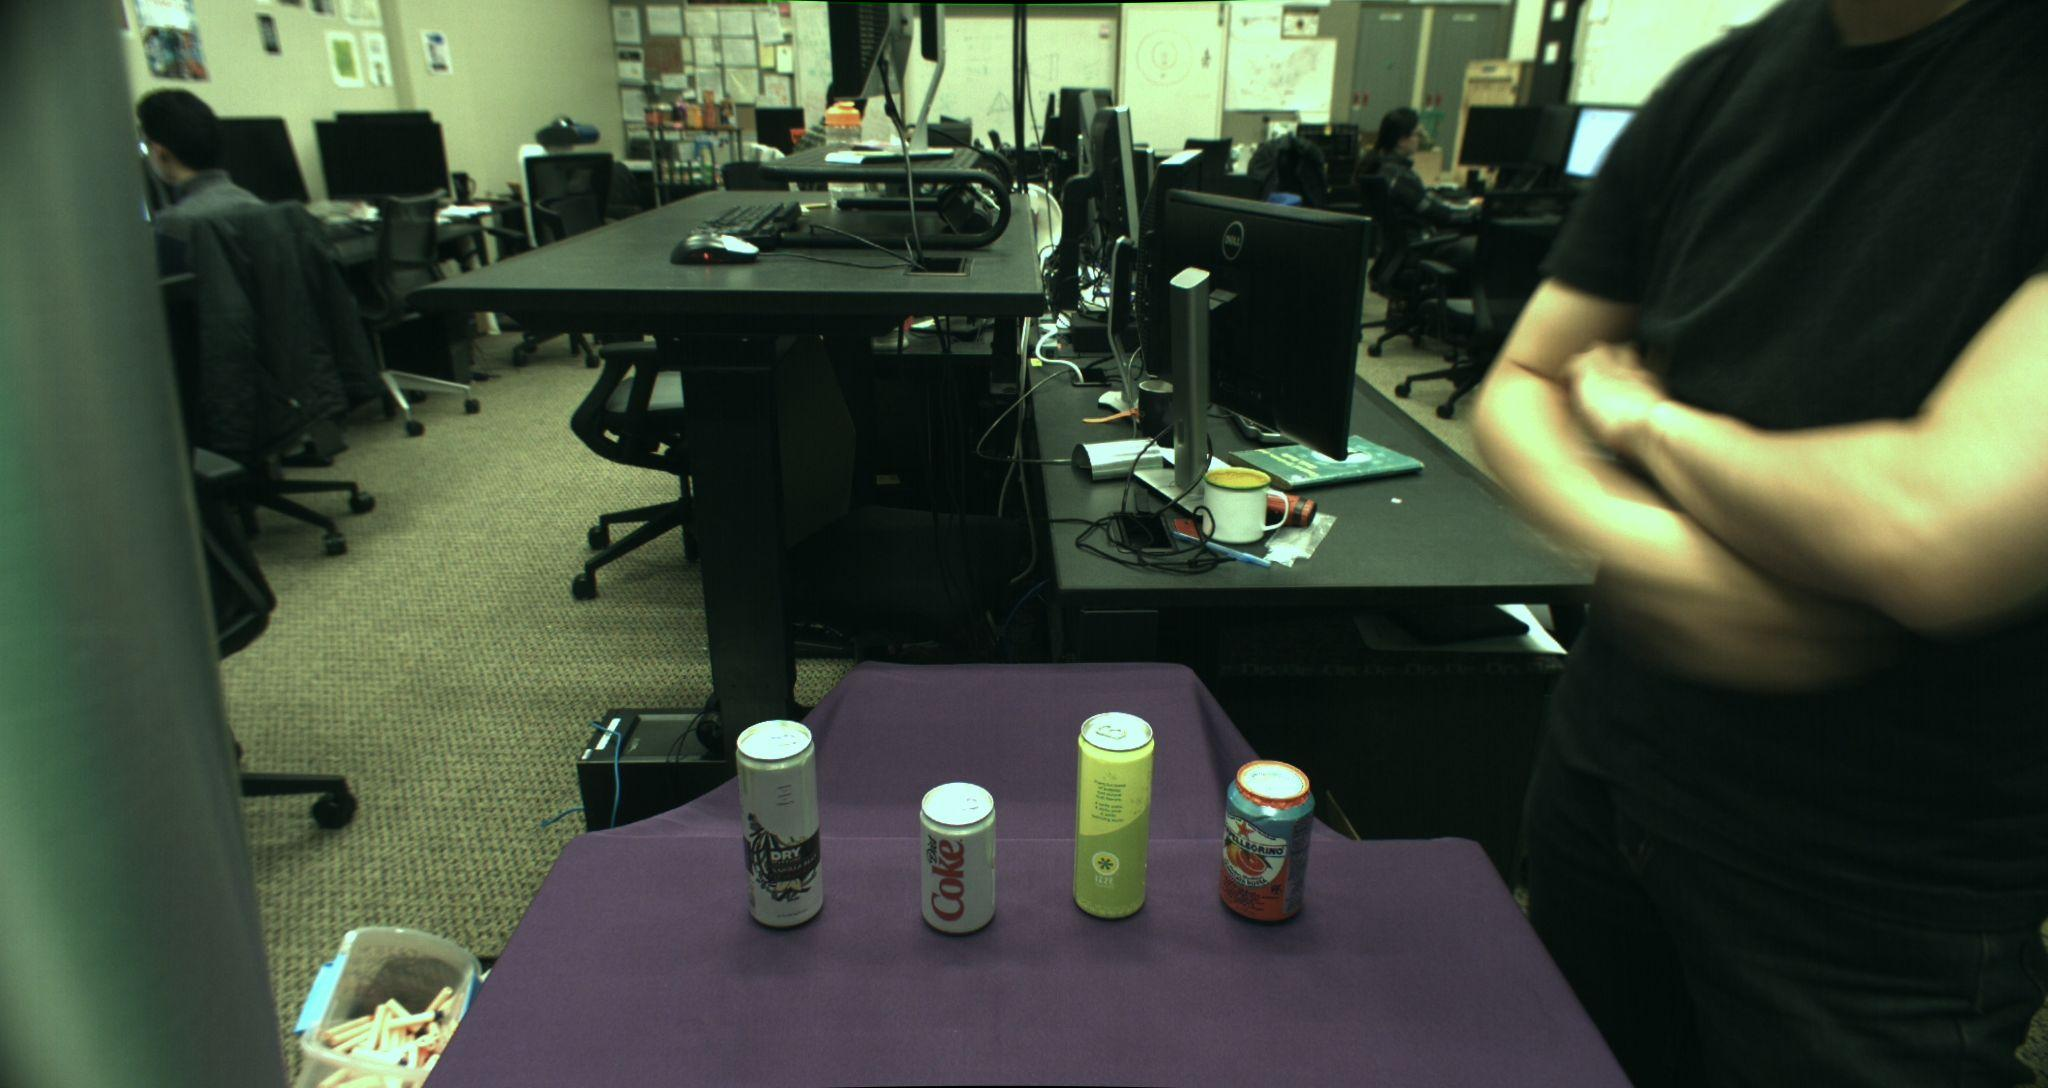can_diet_coke_small: (918, 780, 997, 934)
can_dry_sparkling_vanilla_bean: (735, 718, 824, 929)
can_izze_fusions_lemon_lime: (1071, 711, 1155, 919)
can_sanpellegrino_blood_orange: (1219, 759, 1313, 921)
